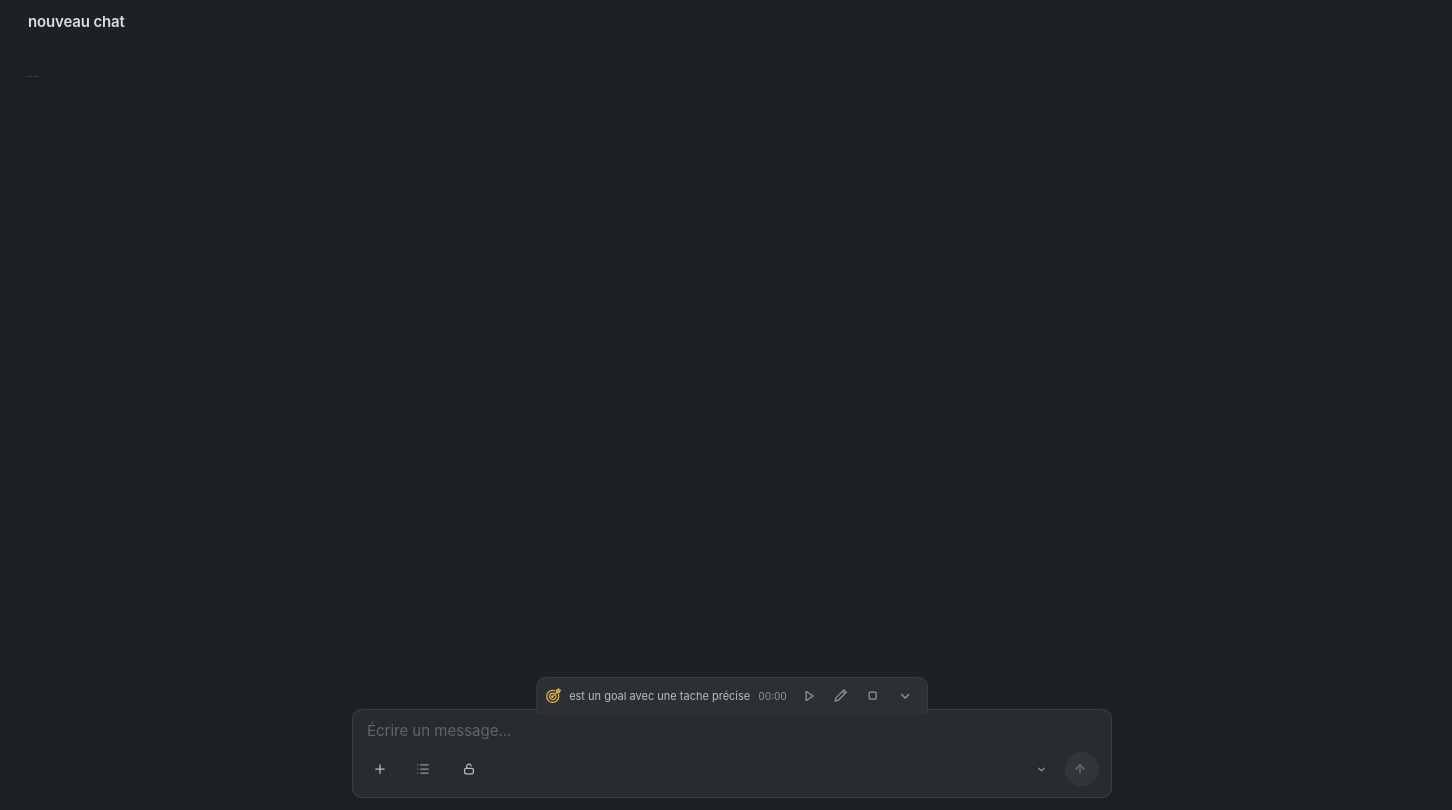
Test: en-tête et goal — retours utilisateur › goal bloqué : détail lisible et arrêt directement accessible
Expected: the element with class "goal-bar" is shown, top-left (536, 676), bottom-right (928, 714)
Expected: the element titled "en attente" is shown, top-left (545, 688), bottom-right (561, 704)
Click the button titled "Déplier". click: coordinates (660, 696)
box: top-left (569, 688), bottom-right (750, 702)
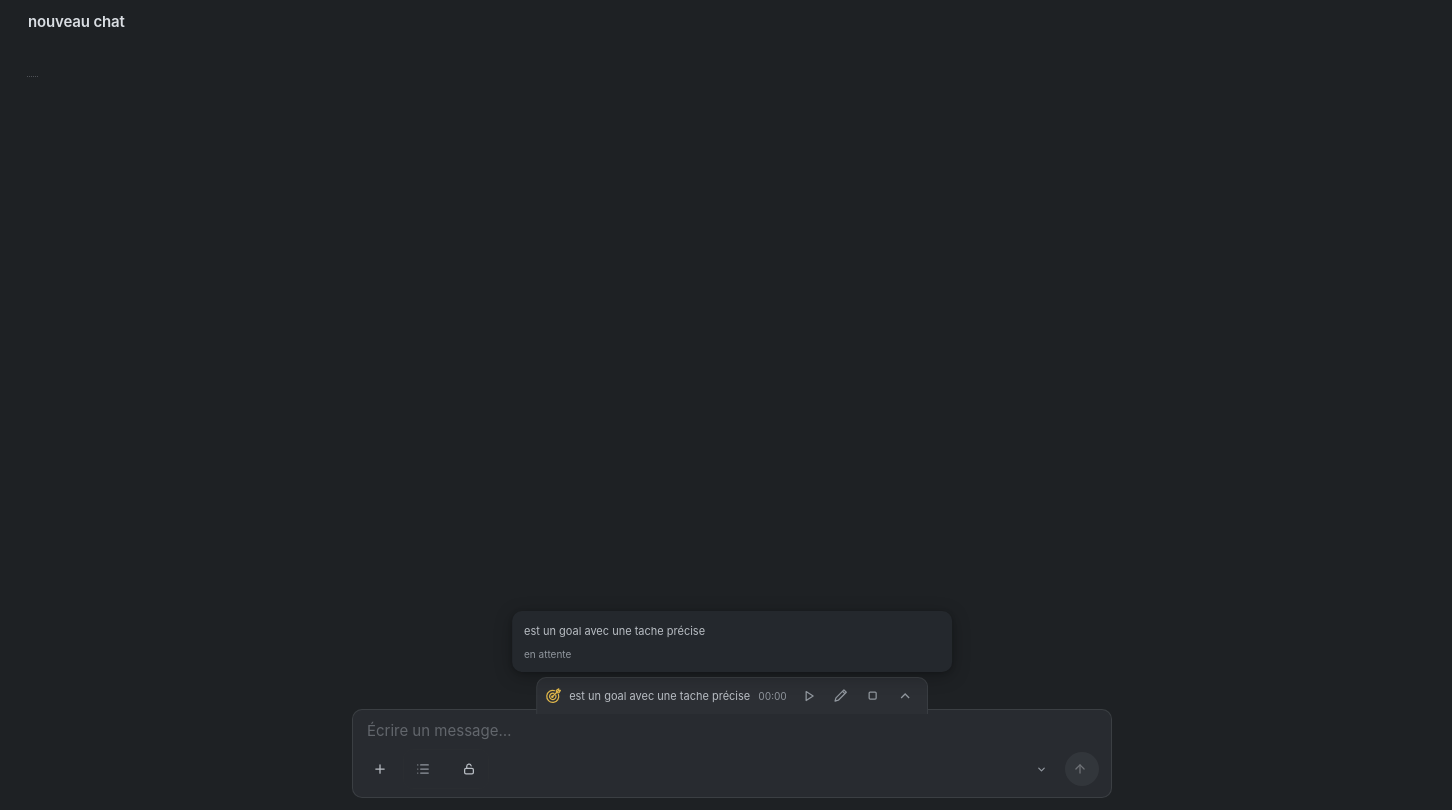
Click the button titled "Supprimer le goal (et arrêter le tour)". click: coordinates (873, 696)
box: top-left (859, 682), bottom-right (887, 710)
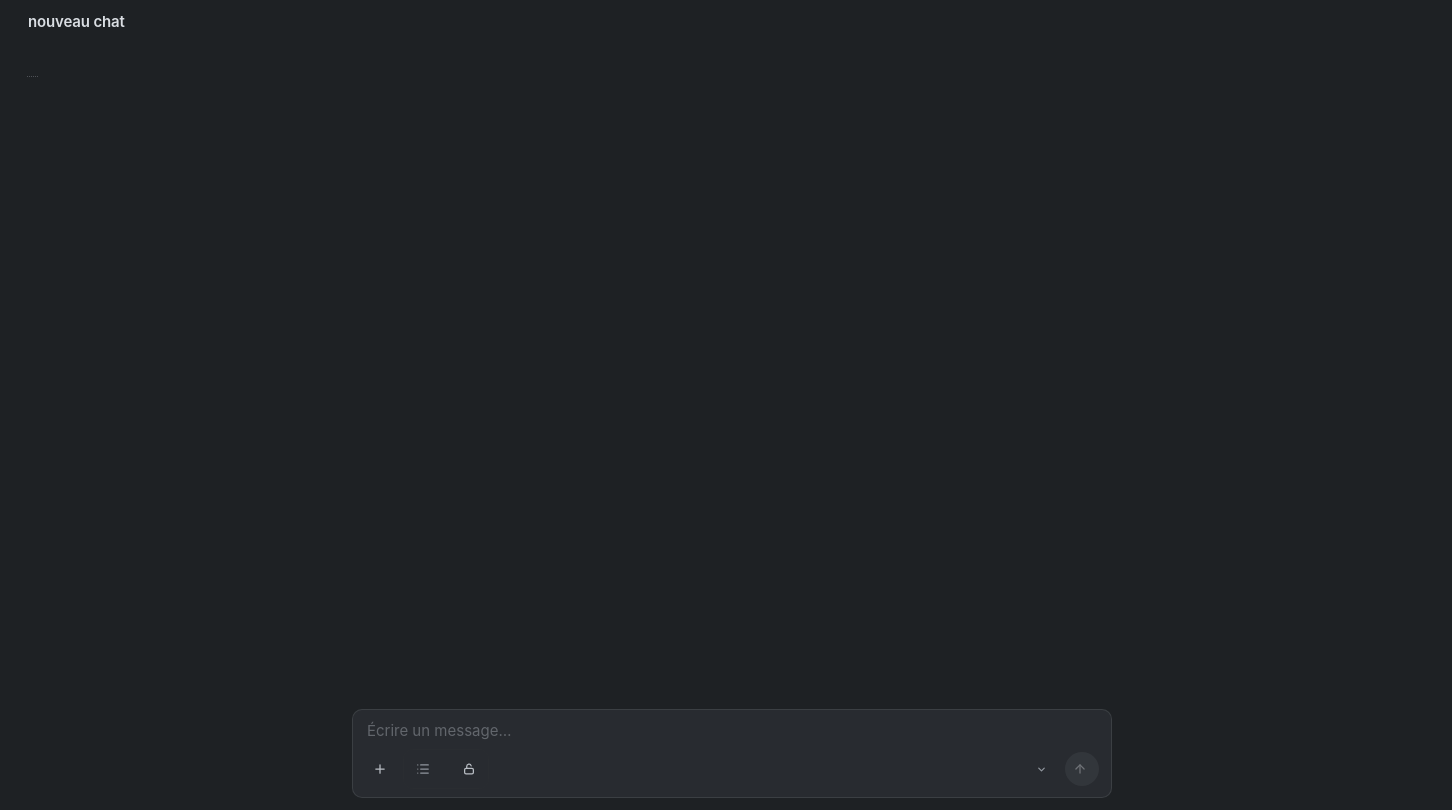
Expected: the element with class "goal-bar" is gone
